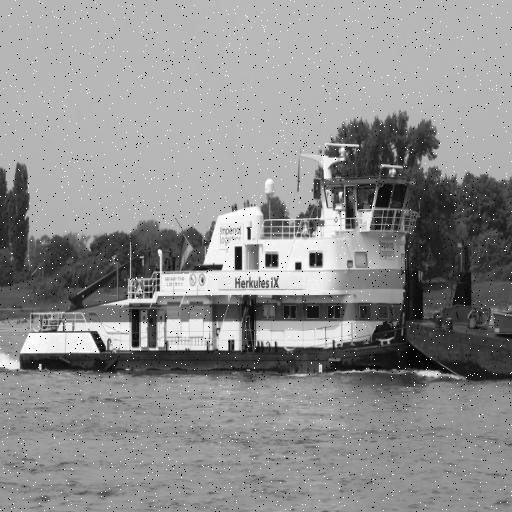tugboat: (17, 142, 477, 389)
